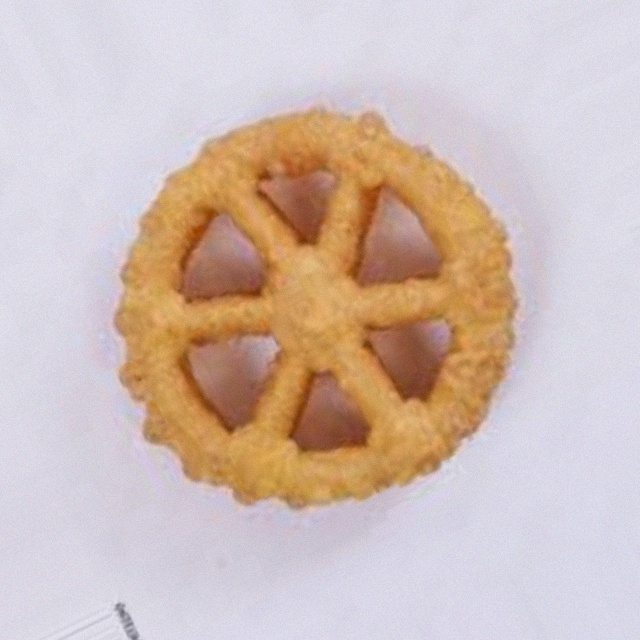Kokis: (113, 117, 527, 523)
